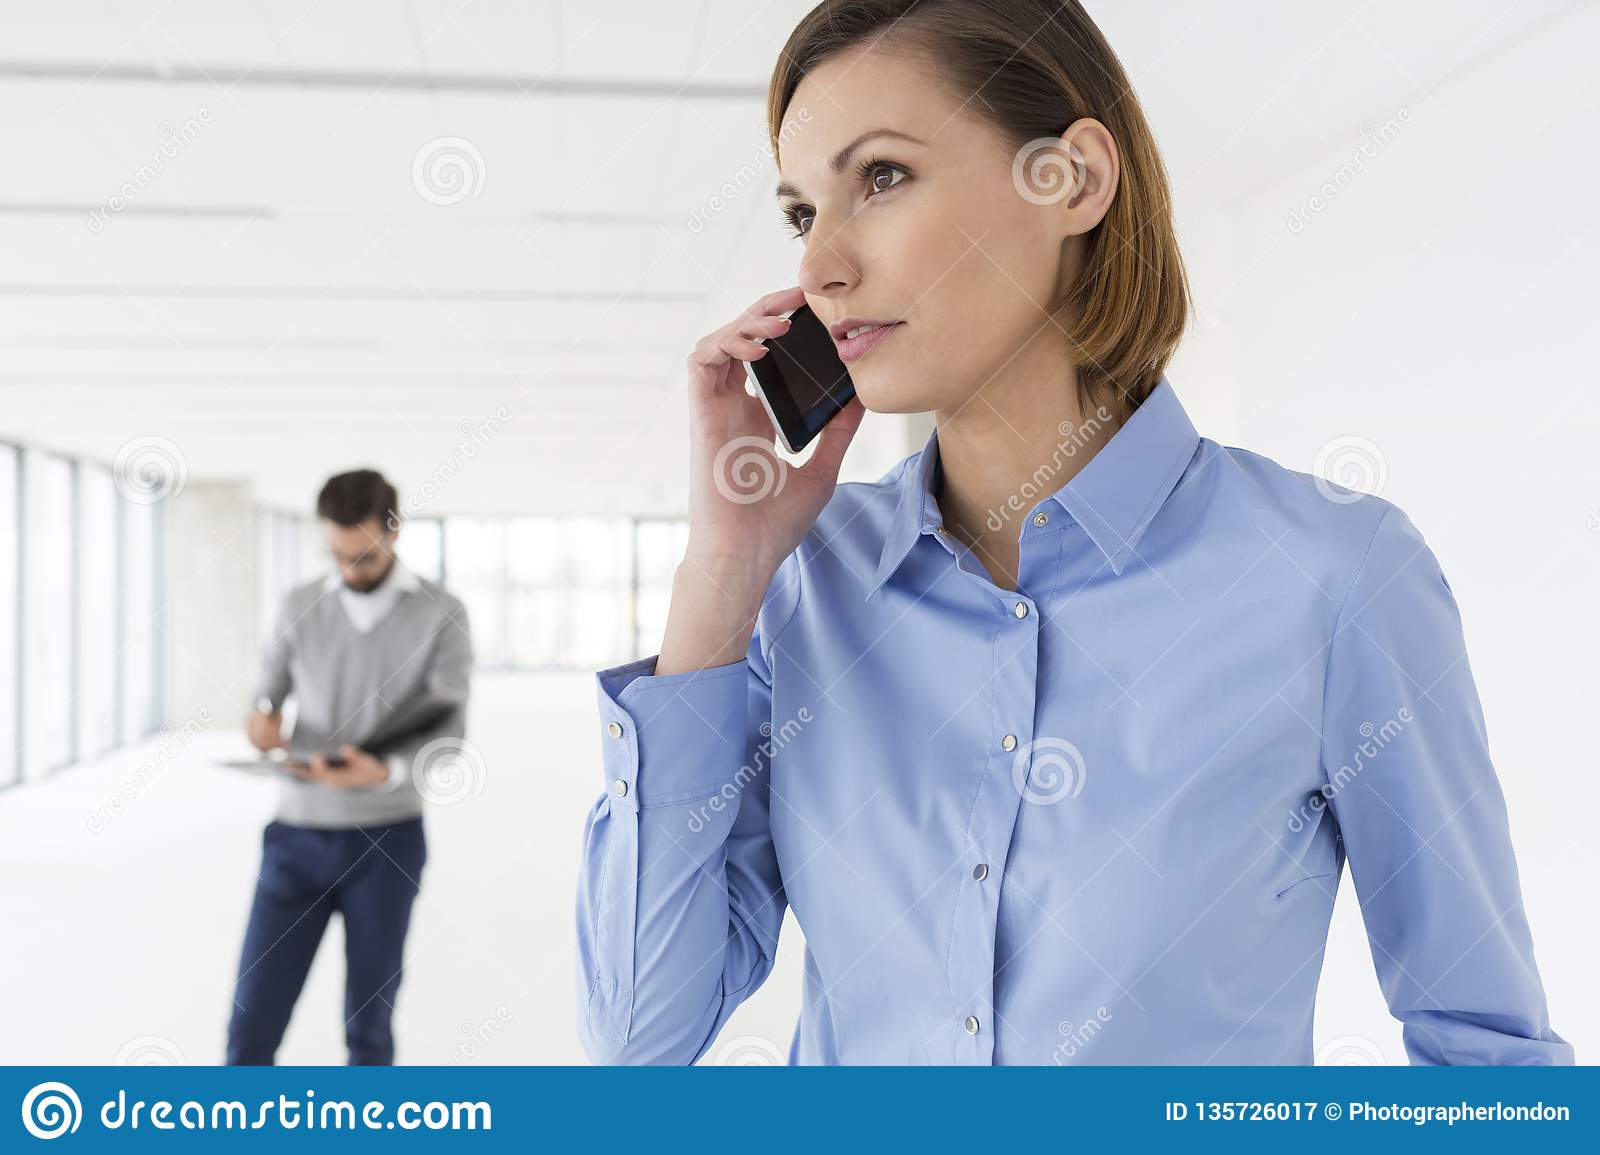phone: (738, 294, 857, 464)
talk: (676, 104, 963, 604)
